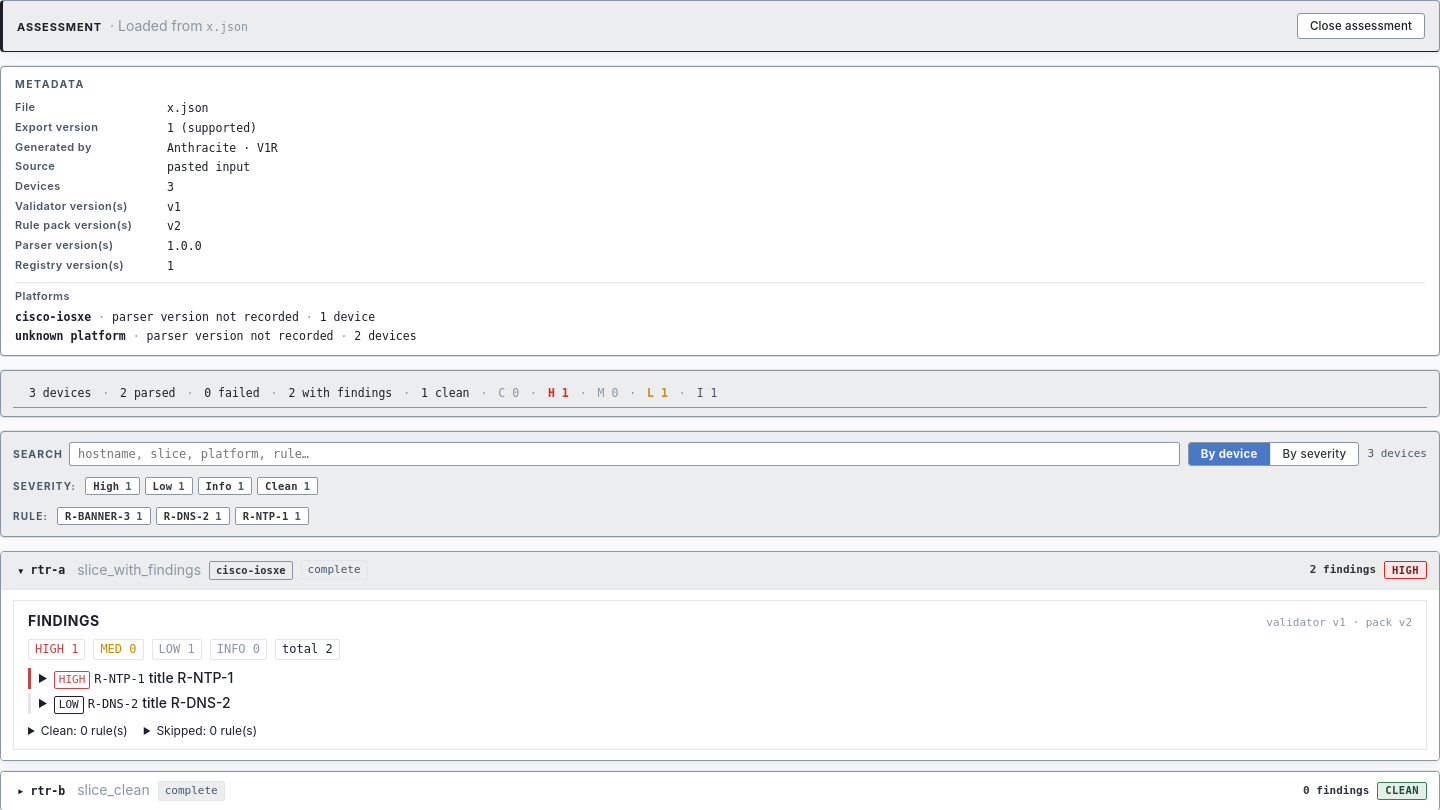
Test: AssessLoadedView — V1X triage › by-severity view groups findings under severity headings
Click the button "By severity" at (1314,454), box [1270,443,1358,465]
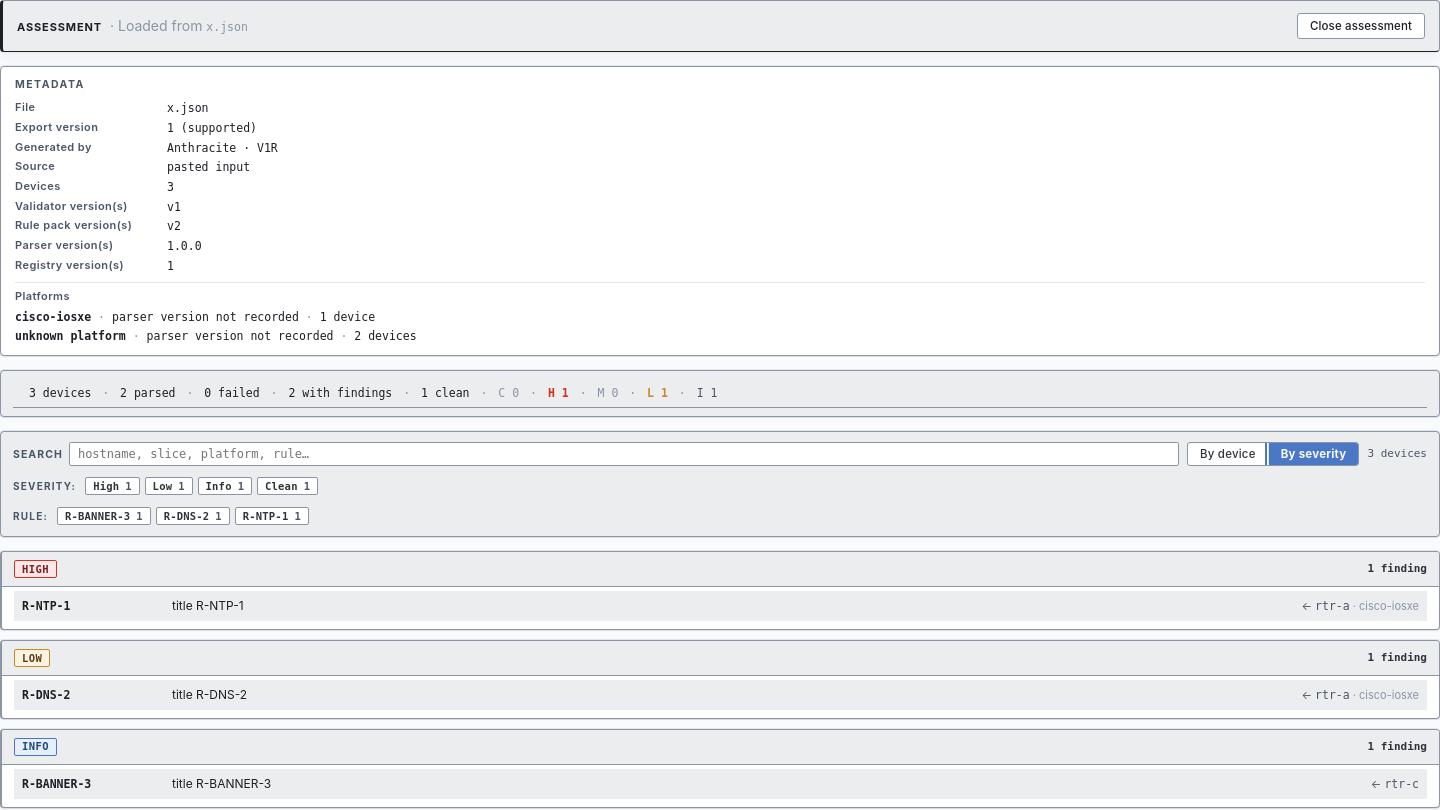
Expected: the element named "Severity high" is shown, [0,551,1439,630]
Expected: the element named "Severity low" is shown, [0,640,1439,719]
Expected: the element named "Severity info" is shown, [0,729,1439,808]
